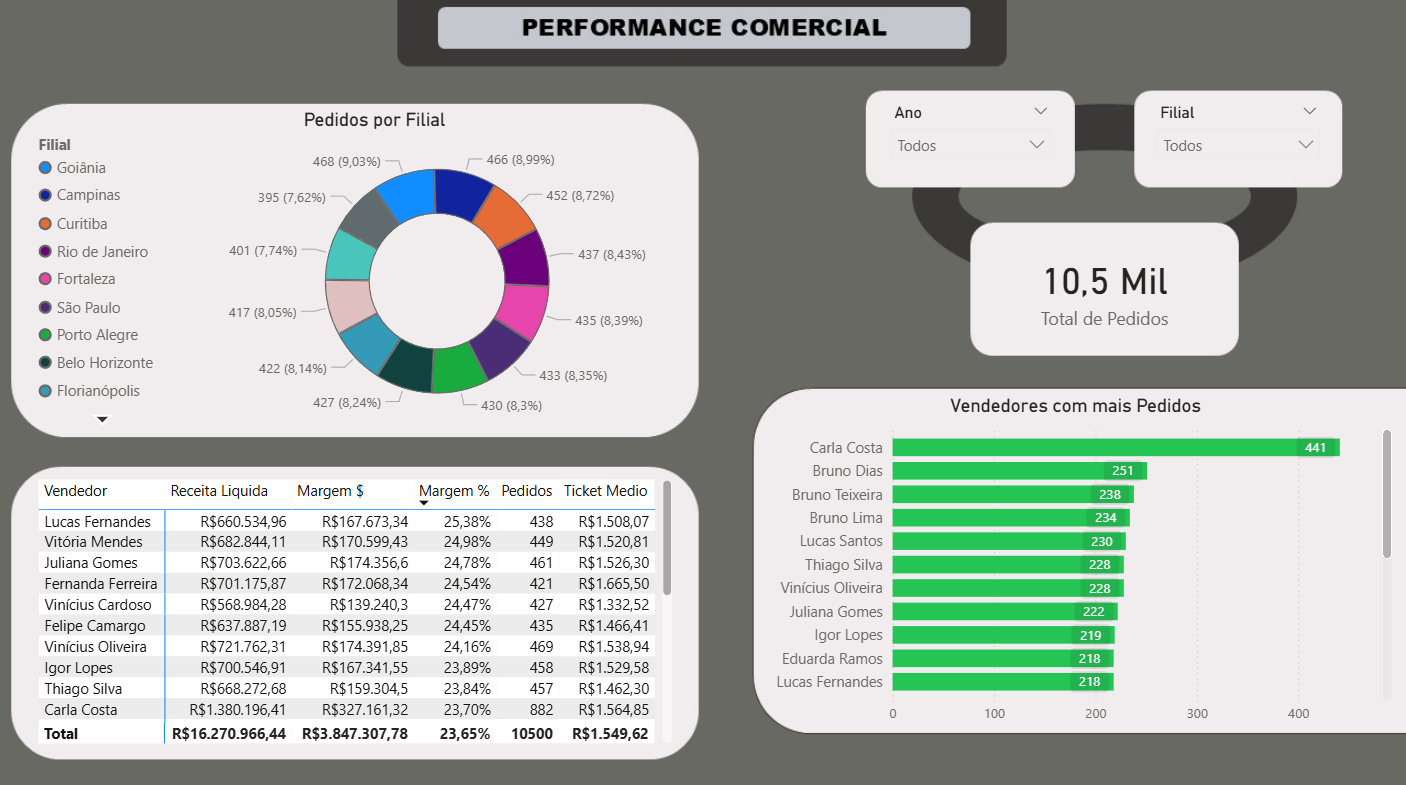

The page's visual inventory and layout, read from the dashboard file:
{"tool":"powerbi","page":{"name":"Performance Comercial","canvas":[1280,720],"ordinal":4},"visuals":[{"type":"slicer","fields":{"Values":["Filiais.Filial"]},"box":[1044,91.3,168,71.3],"z":1000},{"type":"slicer","fields":{"Values":["Calendario.Ano"]},"box":[802,91.3,165.3,71.3],"z":2000},{"type":"clusteredBarChart","title":"Vendedores com mais Pedidos","fields":{"Category":["Vendedores.Vendedor"],"Y":["Count(Vendas.Pedido_ID)"]},"box":[687.3,360,584.5,308.2],"z":3000},{"type":"donutChart","title":"Pedidos por Filial","fields":{"Category":["Filiais.Filial"],"Y":["CountNonNull(Pedidos.Pedido_ID)"]},"box":[31.7,100,620.8,295.8],"z":4000},{"type":"pivotTable","fields":{"Rows":["Vendedores.Vendedor"],"Values":["Sum(Vendas.Receita_Liquida)","Vendas.Margem $","Vendas.Margem %","CountNonNull(Vendas.Pedido_ID)","Vendas.Ticket Medio Total"]},"box":[32,433,586,250],"z":5000},{"type":"card","fields":{"Values":["Vendas.Qtd Total Pedido"]},"box":[899.1,218.2,213.6,92.7],"z":6000}]}

Visuals, with their boxes in screenshot pixels (x1, y1, x2, y2), scaled from the page's 1280x720 canvas onto the 1406x785 screenshot:
slicer - Filiais.Filial: (1147,100,1331,177)
slicer - Calendario.Ano: (881,100,1063,177)
"Vendedores com mais Pedidos" clusteredBarChart: (755,392,1397,729)
"Pedidos por Filial" donutChart: (35,109,717,432)
pivotTable - Vendedores.Vendedor x Sum(Vendas.Receita_Liquida): (35,472,679,745)
card - Vendas.Qtd Total Pedido: (988,238,1222,339)
